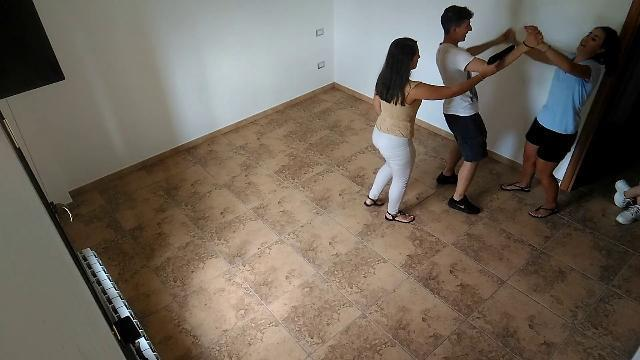non-violence: (613, 179, 640, 220)
violence: (432, 5, 620, 218), (365, 30, 517, 222)
weapon: (484, 44, 515, 68)
